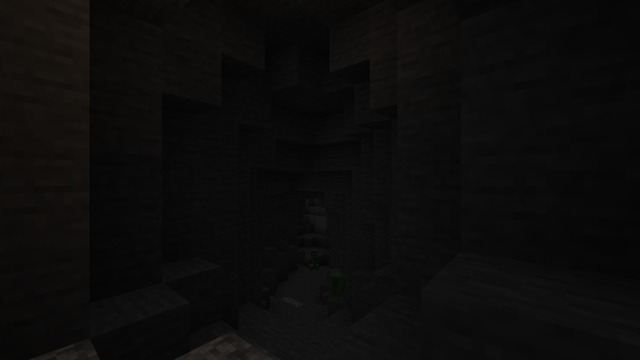creepers: (309, 247, 318, 269)
slimes: (325, 266, 343, 298)
